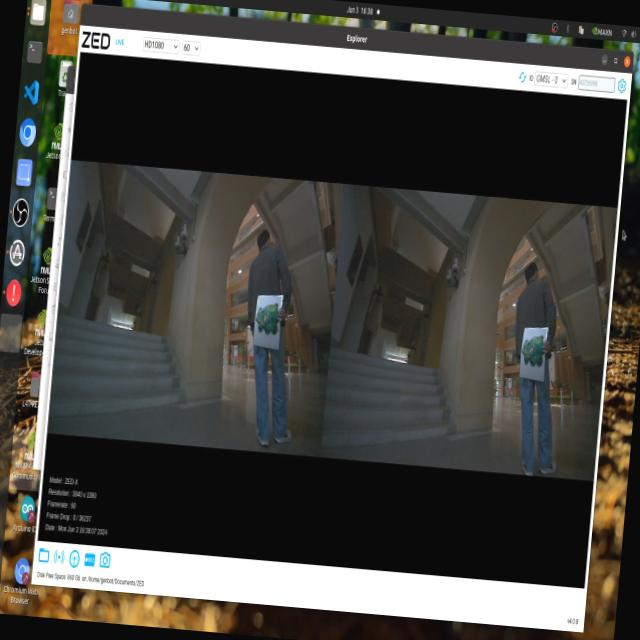green: (521, 334, 554, 388), (250, 297, 280, 341)
